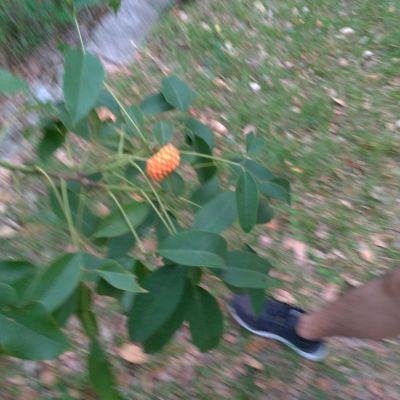eggs: (140, 139, 186, 181)
